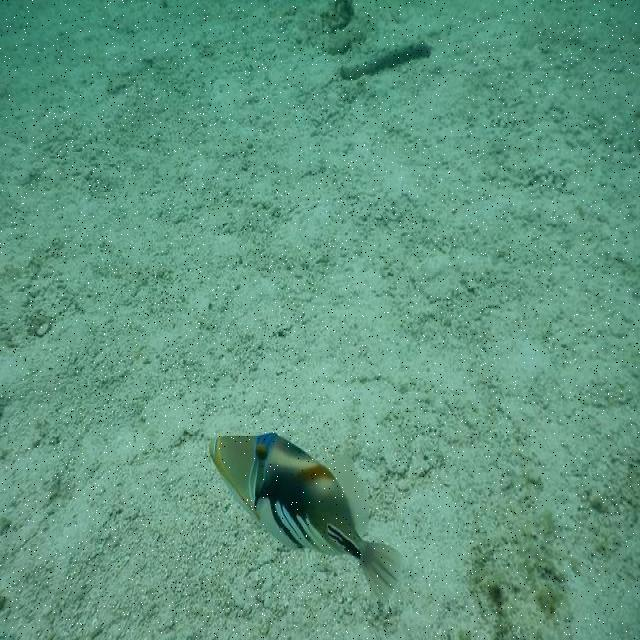fish: (208, 432, 402, 607), (340, 38, 433, 79)
